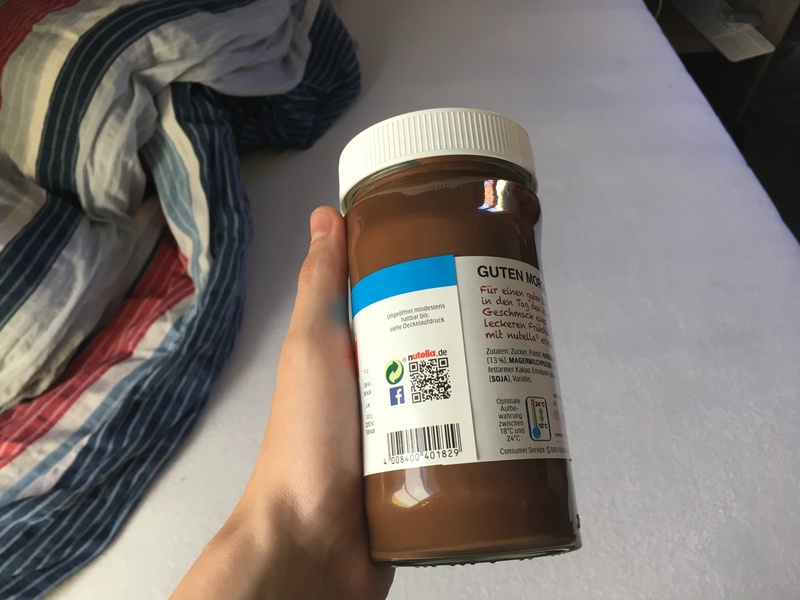nutella: (338, 106, 583, 567)
